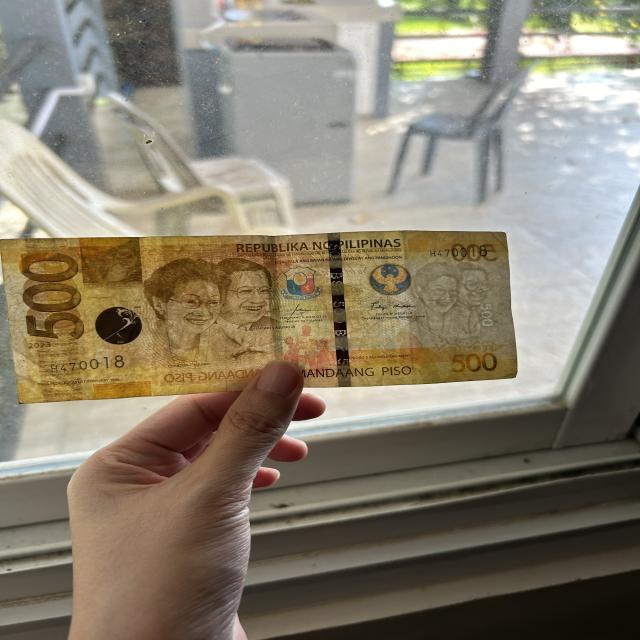concealed_value: (80, 241, 144, 286)
optically_variable_device: (96, 308, 142, 345)
see_through_mark: (425, 337, 505, 357)
value_watermark: (477, 302, 497, 330)
watermark: (417, 265, 498, 342)
